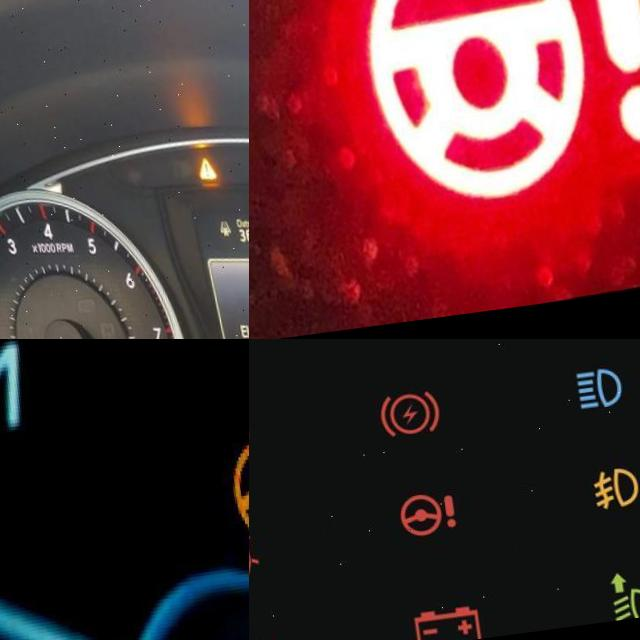Electronic Power Steering: (338, 0, 640, 220), (222, 447, 249, 557)
Electronic Power Steering Warning: (378, 495, 448, 550)
